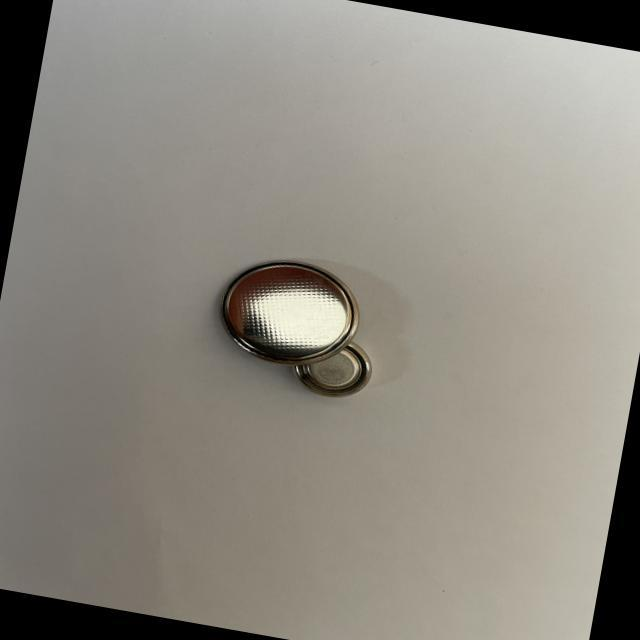COIN: (210, 248, 365, 374), (286, 330, 376, 404)
